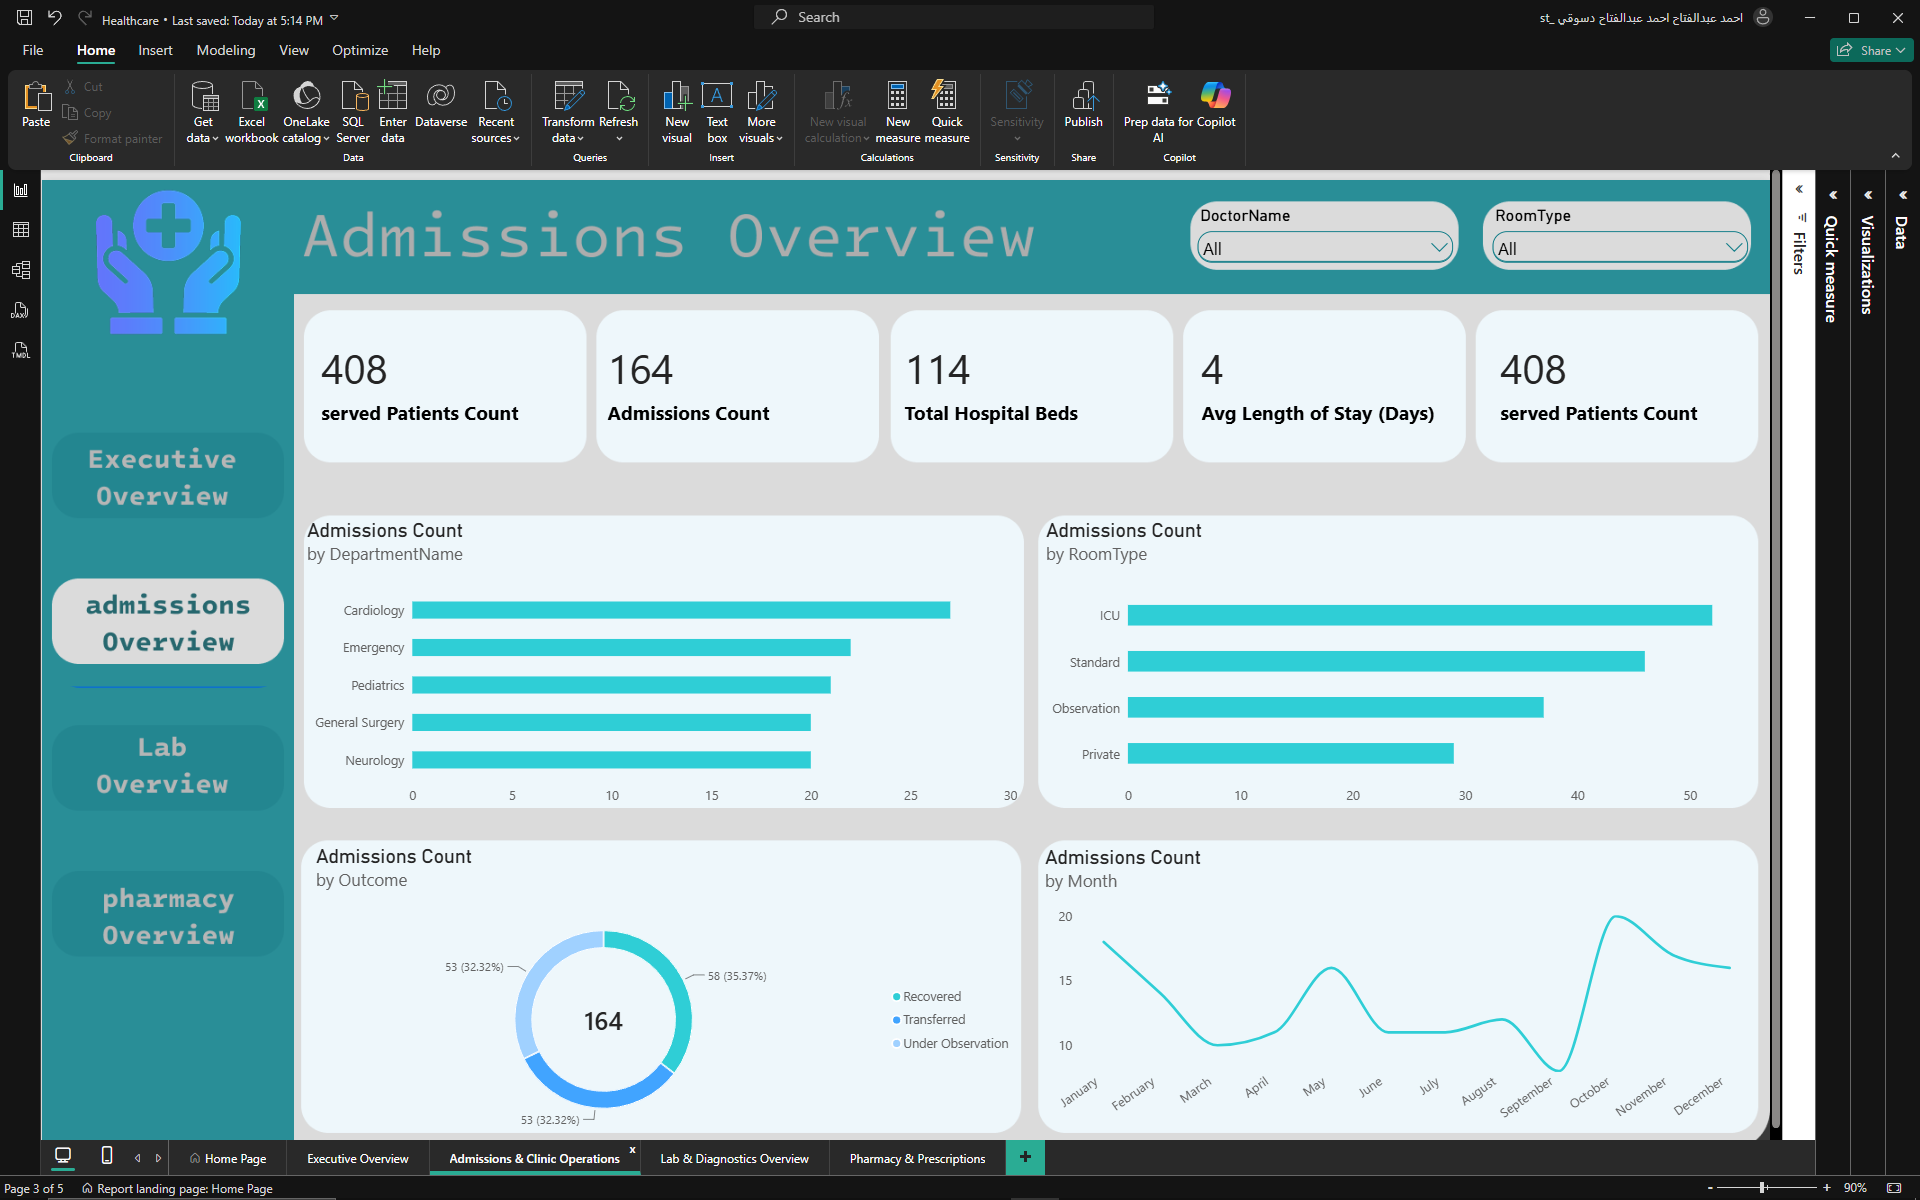

This screenshot's page, from the dashboard's own definition file:
{"tool":"powerbi","page":{"name":"Admissions & Clinic Operations","canvas":[1920,1080],"ordinal":1},"visuals":[{"type":"cardVisual","fields":{"Data":["Dax_measures.prescription count"]},"box":[294.2,140.5,307.4,172.3],"z":0},{"type":"cardVisual","fields":{"Data":["Dax_measures.Admissions Count"]},"box":[612.7,140.3,314,172.3],"z":1000},{"type":"cardVisual","fields":{"Data":["Dax_measures.Avg Length of Stay (Days)"]},"box":[1272,140.5,308.7,172.3],"z":2000},{"type":"cardVisual","fields":{"Data":["Dax_measures.Total Hospital Beds"]},"box":[942.1,140.5,310.1,172.3],"z":3000},{"type":"cardVisual","fields":{"Data":["Dax_measures.served Patients Count"]},"box":[1604.6,140.5,296.8,172.3],"z":4000},{"type":"clusteredBarChart","title":"Admissions Count by Department Name","fields":{"Category":["dim_departments.DepartmentName"],"Y":["Dax_measures.Admissions Count"]},"box":[294.2,376.4,789.2,322.6],"z":5000},{"type":"clusteredBarChart","title":"Admissions Count by Room Type","fields":{"Category":["dim_rooms.RoomType"],"Y":["Dax_measures.Admissions Count"]},"box":[1115.7,376.3,785.8,322],"z":6000},{"type":"donutChart","fields":{"Category":["dim_admissions.Outcome"],"Y":["Dax_measures.Admissions Count"]},"box":[304.8,739.4,779.1,320.7],"z":7000},{"type":"lineChart","title":"Admissions Count Per Month","fields":{"Category":["dim_admissions.DischargeDate.Variation.Date Hierarchy.Month"],"Y":["Dax_measures.Admissions Count"]},"box":[1115,740.2,786,321.1],"z":8000},{"type":"slicer","fields":{"Values":["dim_doctors.DoctorName"]},"box":[1279.3,28.9,294.2,64.8],"z":9000},{"type":"slicer","fields":{"Values":["dim_rooms.RoomType"]},"box":[1606.6,28.9,293.9,77.9],"z":10000},{"type":"pageNavigator","box":[10.1,247,262.9,645.8],"z":11000},{"type":"image","box":[476.7,150.5,149.3,107.1],"z":11001},{"type":"image","box":[1114.7,137.2,148.1,120.4],"z":11002},{"type":"image","box":[798.3,150.1,129.4,107.4],"z":11003},{"type":"image","box":[1410.8,149.3,162.5,103.5],"z":11004},{"type":"image","box":[1750.3,150.5,150.5,101.1],"z":11005}]}

Visuals, with their boxes on the page's 1920x1080 design canvas (x1, y1, x2, y2). These are canvas units, not pixel positions in the 1920x1200 screenshot, which may show the page scaled, cropped or inside an application window:
cardVisual - Dax_measures.prescription count: (left=294, top=140, right=602, bottom=313)
cardVisual - Dax_measures.Admissions Count: (left=613, top=140, right=927, bottom=313)
cardVisual - Dax_measures.Avg Length of Stay (Days): (left=1272, top=140, right=1581, bottom=313)
cardVisual - Dax_measures.Total Hospital Beds: (left=942, top=140, right=1252, bottom=313)
cardVisual - Dax_measures.served Patients Count: (left=1605, top=140, right=1901, bottom=313)
"Admissions Count by Department Name" clusteredBarChart: (left=294, top=376, right=1083, bottom=699)
"Admissions Count by Room Type" clusteredBarChart: (left=1116, top=376, right=1902, bottom=698)
donutChart - dim_admissions.Outcome x Dax_measures.Admissions Count: (left=305, top=739, right=1084, bottom=1060)
"Admissions Count Per Month" lineChart: (left=1115, top=740, right=1901, bottom=1061)
slicer - dim_doctors.DoctorName: (left=1279, top=29, right=1574, bottom=94)
slicer - dim_rooms.RoomType: (left=1607, top=29, right=1900, bottom=107)
pageNavigator: (left=10, top=247, right=273, bottom=893)
image: (left=477, top=150, right=626, bottom=258)
image: (left=1115, top=137, right=1263, bottom=258)
image: (left=798, top=150, right=928, bottom=258)
image: (left=1411, top=149, right=1573, bottom=253)
image: (left=1750, top=150, right=1901, bottom=252)
